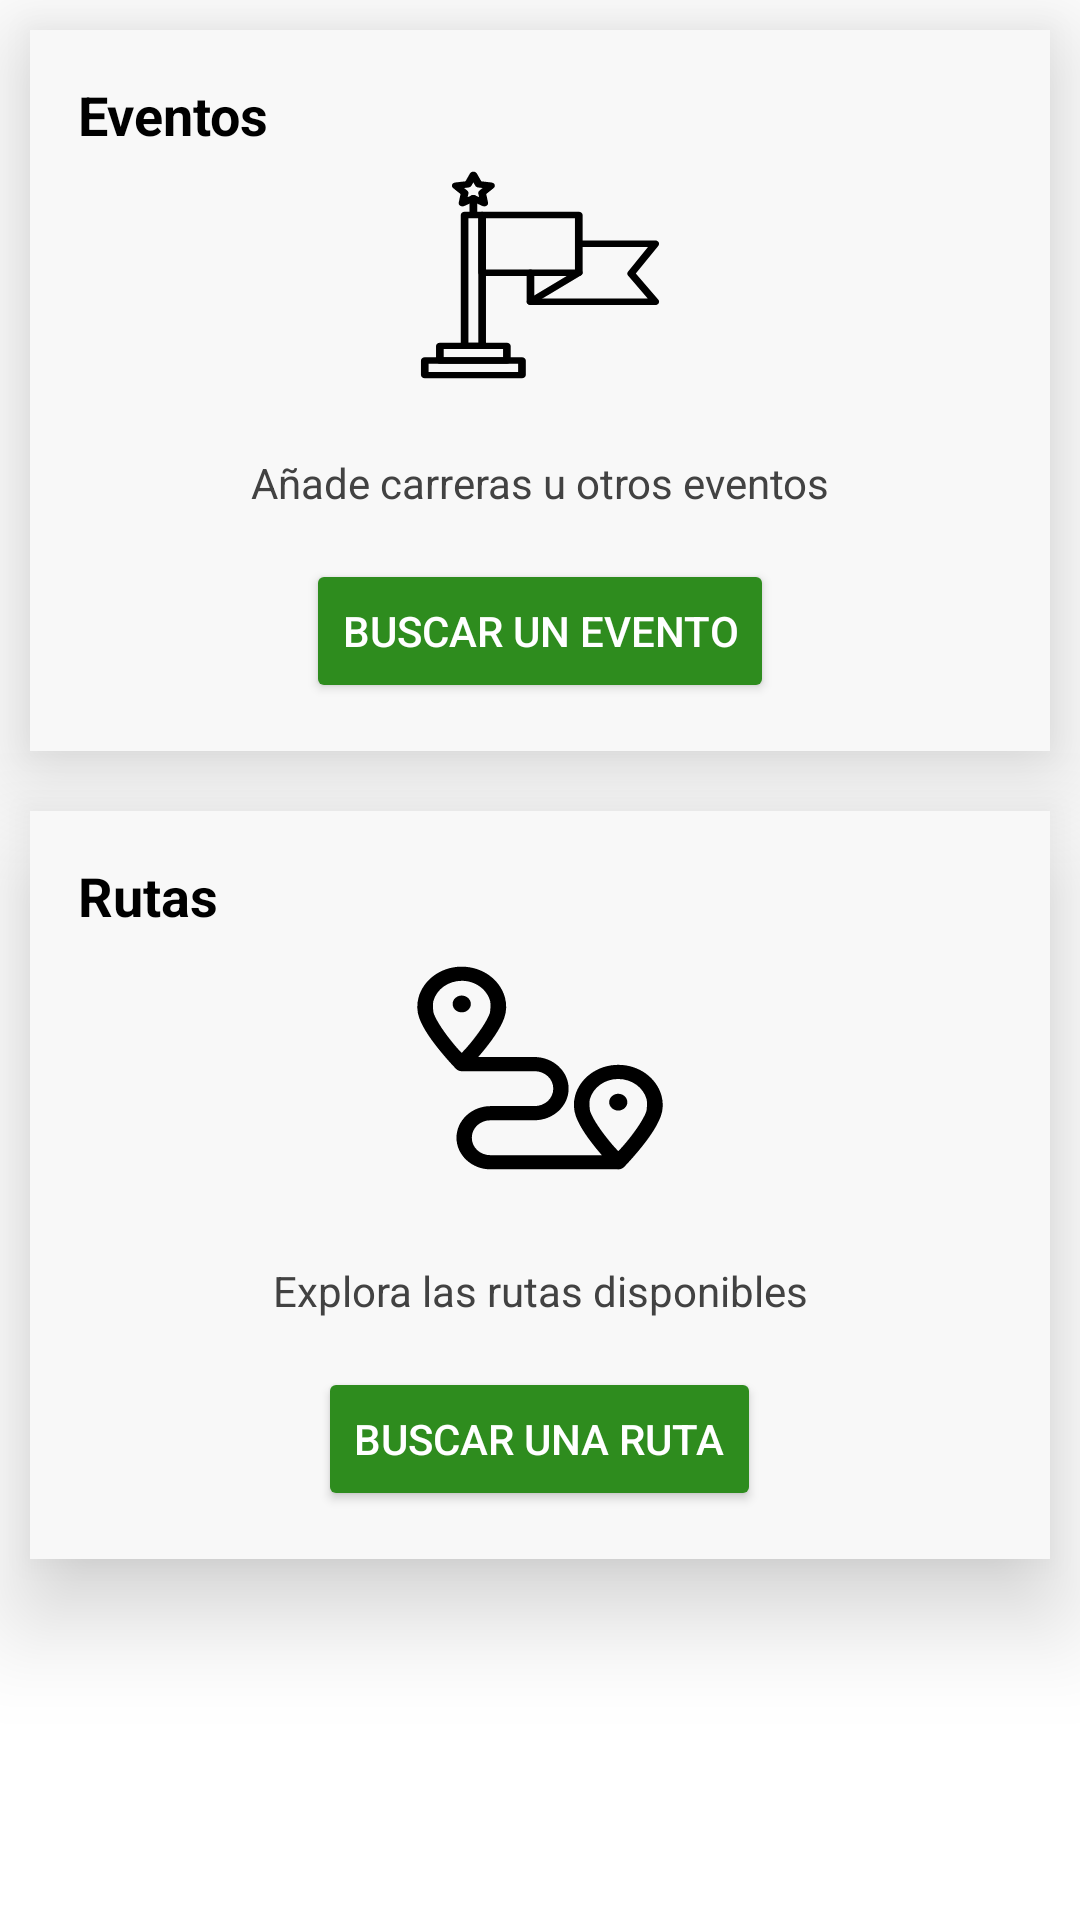

Point at icon controls on the screen. Image size 1080×1920, points as point (x, y).
flag: point (540, 275)
route: point (540, 1068)
